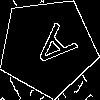A: (23, 22, 79, 78)
